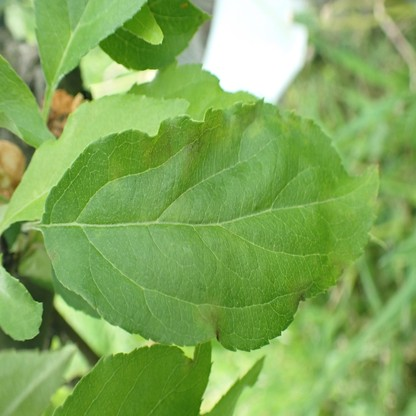scab: (144, 103, 262, 161), (274, 106, 311, 139), (195, 304, 223, 342), (331, 254, 350, 279), (290, 282, 304, 310), (48, 249, 59, 261)
